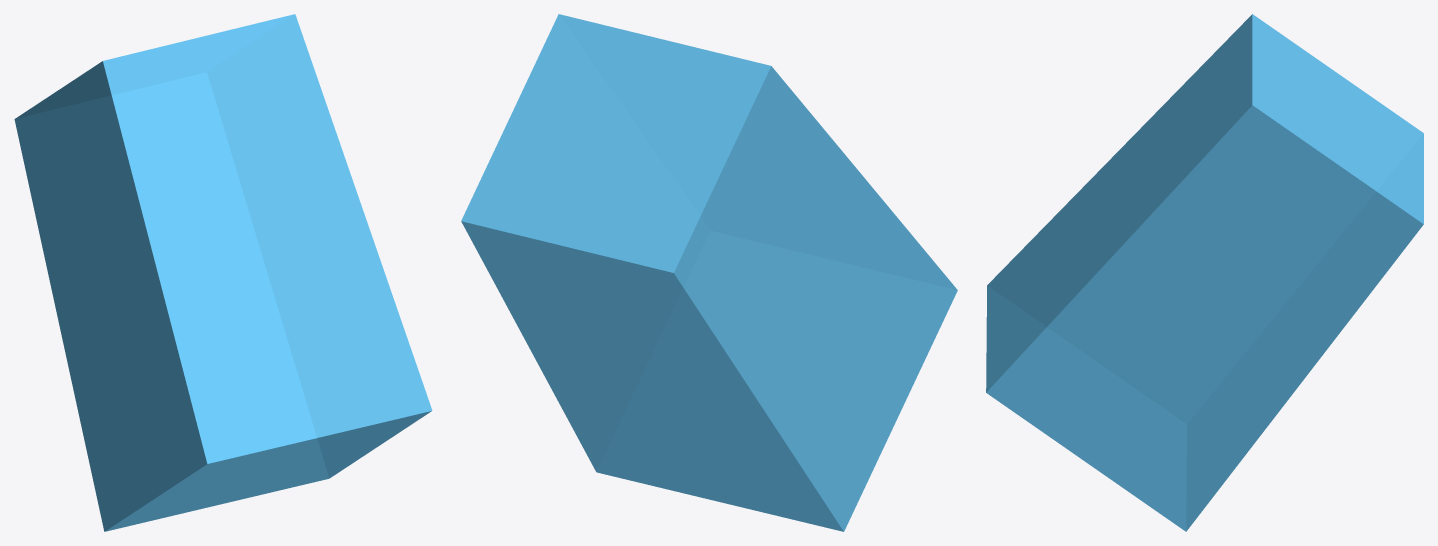
The model's file is Event_421115418_HBrechit_4.fbx.
3 views of the same model, side by side, from view 1: azimuth 30°, elevation 25°; view 2: azimuth 150°, elevation 25°; view 3: azimuth 270°, elevation 25° (orthographic). The views are drawn at different scales.
Visible parts, largest first — view 1: Model; view 2: Model; view 3: Model.
Boxes of the visible parts, x1,y1,x2,y2 form: Model: [14, 14, 432, 531]; Model: [461, 14, 957, 531]; Model: [986, 14, 1423, 531].
Bounding box in the file's own units: 0.4679 × 0.8754 × 0.8138.
